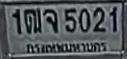0: (78, 7, 90, 32)
1: (12, 8, 20, 33), (109, 6, 116, 31)
2: (92, 6, 104, 31)
5: (64, 8, 75, 32)
A08: (42, 8, 58, 32)
A18: (23, 7, 41, 33)
BKK: (24, 41, 109, 54)
